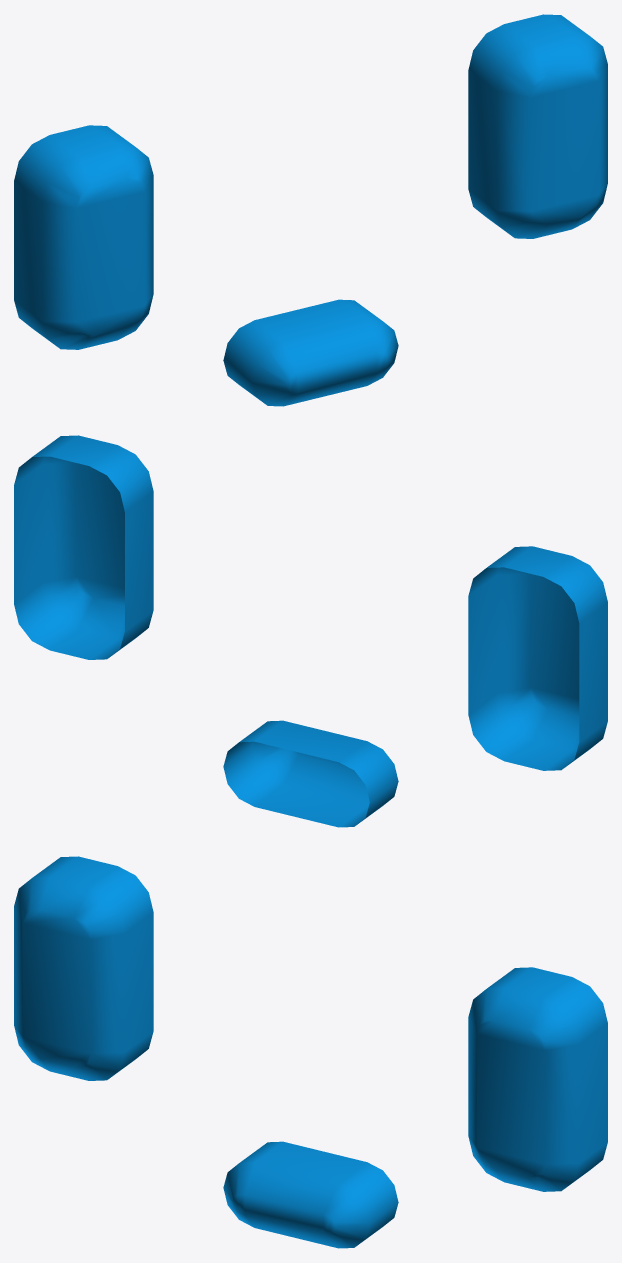
Rendered from Drone_002_Face_Neutral_001.fbx.
3 views of the same model, one above another, from view 1: azimuth 30°, elevation 25°; view 2: azimuth 150°, elevation 25°; view 3: azimuth 330°, elevation 25° (orthographic).
Parts seen in each view (by area): view 1: Drone_002_Face_Neutral_001; view 2: Drone_002_Face_Neutral_001; view 3: Drone_002_Face_Neutral_001.
Boxes of the visible parts, left/top/right/bottom form: Drone_002_Face_Neutral_001: left=14, top=14, right=607, bottom=406; Drone_002_Face_Neutral_001: left=14, top=435, right=607, bottom=827; Drone_002_Face_Neutral_001: left=14, top=856, right=607, bottom=1248.
Bounding box in the file's own units: 9.57 × 1.2 × 4.86.
